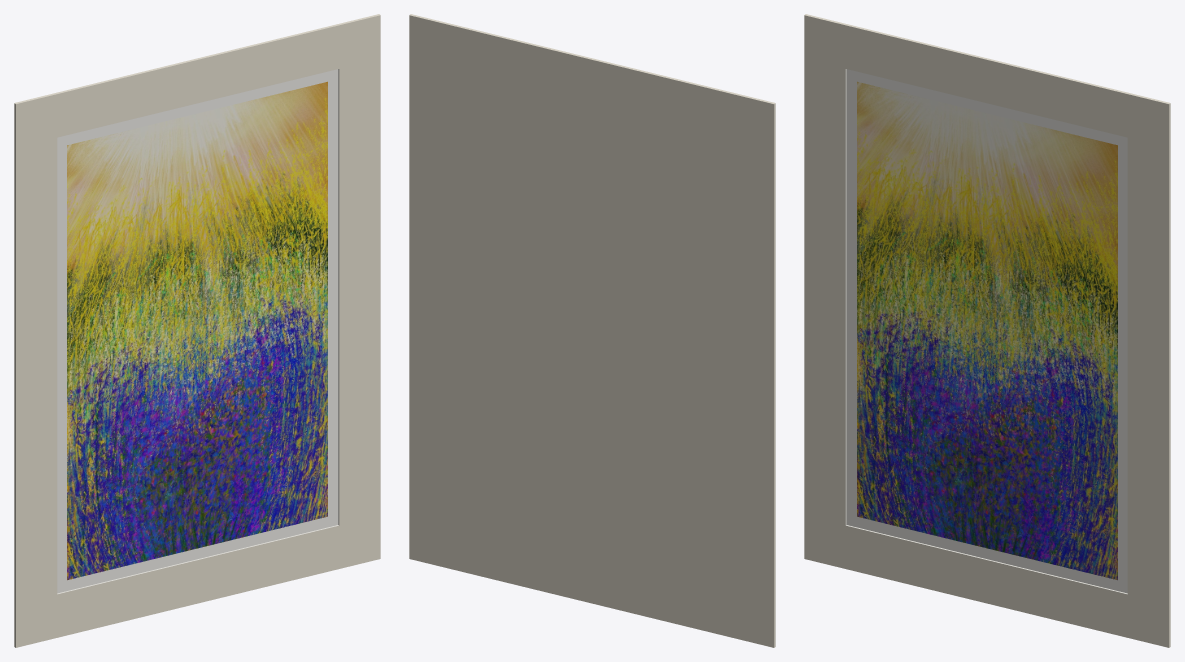
Rendered from os033_moyen_passe-partout.glb.
3 views of the same model, side by side, from view 1: azimuth 30°, elevation 25°; view 2: azimuth 150°, elevation 25°; view 3: azimuth 330°, elevation 25° (orthographic).
Parts seen in each view (by area): view 1: os033_moyen_passe-partout; view 2: os033_moyen_passe-partout; view 3: os033_moyen_passe-partout.
Boxes of the visible parts, bbox=[...] form: os033_moyen_passe-partout: bbox=[14, 14, 380, 647]; os033_moyen_passe-partout: bbox=[409, 14, 775, 647]; os033_moyen_passe-partout: bbox=[804, 14, 1170, 647].
Bounding box in the file's own units: 0.7024 × 1 × 0.0055.
4 materials, 1 textured.
